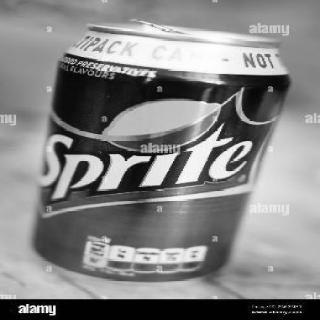alumunium_can: (30, 18, 292, 282)
